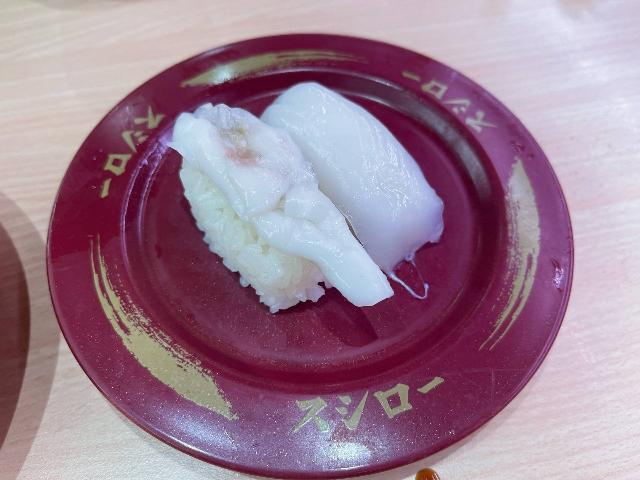janred: (58, 87, 571, 403)
